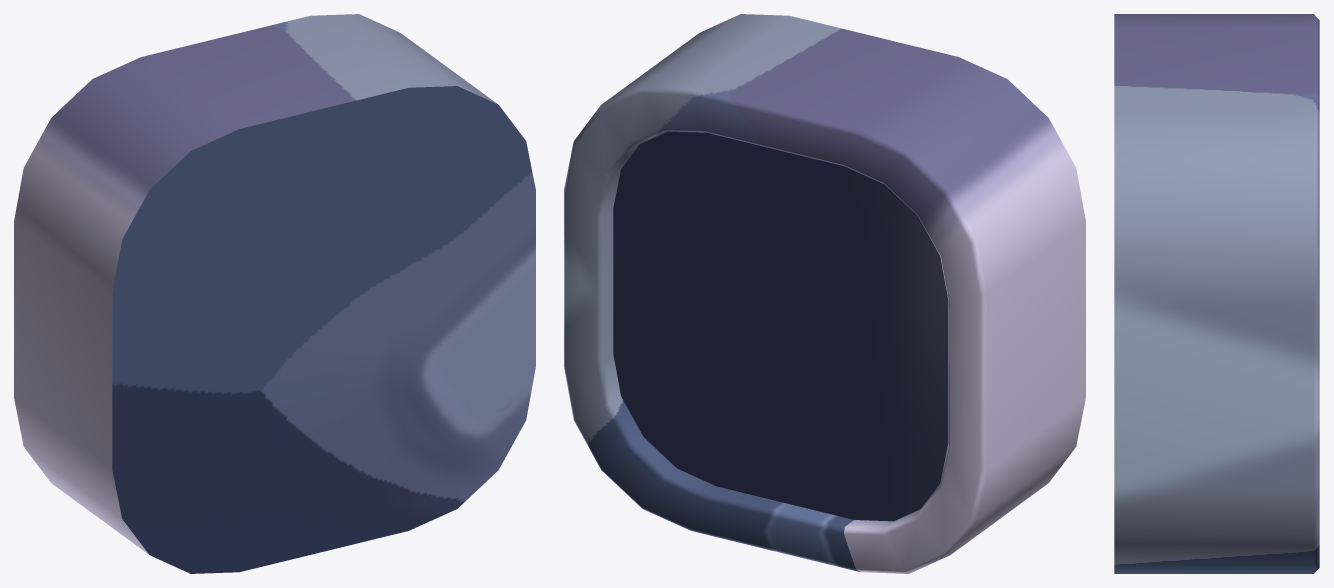
Rendered from Tray.fbx.
3 renders of one model, left to right at view 1: azimuth 30°, elevation 25°; view 2: azimuth 150°, elevation 25°; view 3: azimuth 270°, elevation 25°, orthographic.
Visible parts, largest first — view 1: Tray_; view 2: Tray_; view 3: Tray_.
Boxes of the visible parts, x1=… form: Tray_: x1=14, y1=14, x2=535, y2=573; Tray_: x1=564, y1=14, x2=1085, y2=573; Tray_: x1=1114, y1=14, x2=1319, y2=573.
Bounding box in the file's own units: 82.66 × 82.66 × 34.25.
